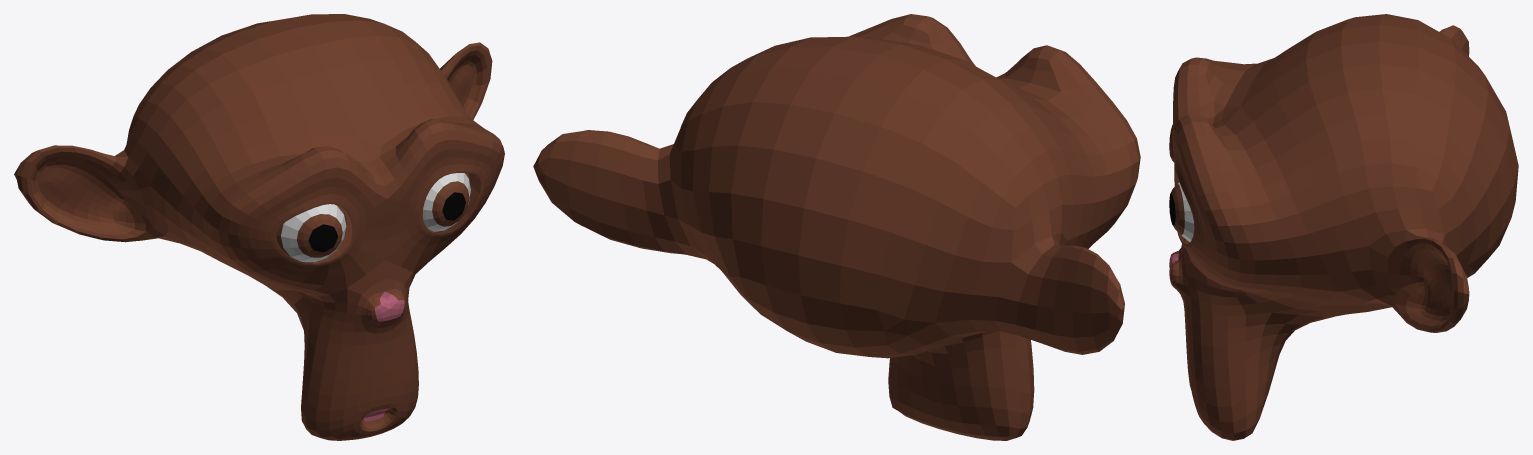
Rendered from Background.fbx.
3 renders of one model, left to right at view 1: azimuth 30°, elevation 25°; view 2: azimuth 150°, elevation 25°; view 3: azimuth 270°, elevation 25°, orthographic. The views are drawn at different scales.
Visible parts, largest first — view 1: Manolo; view 2: Manolo; view 3: Manolo.
Part boxes in pixels (x1=…): Manolo: x1=14, y1=14, x2=504, y2=440; Manolo: x1=533, y1=14, x2=1140, y2=440; Manolo: x1=1169, y1=14, x2=1518, y2=440.
Size of the model in its own units: 257 by 184 by 151.
